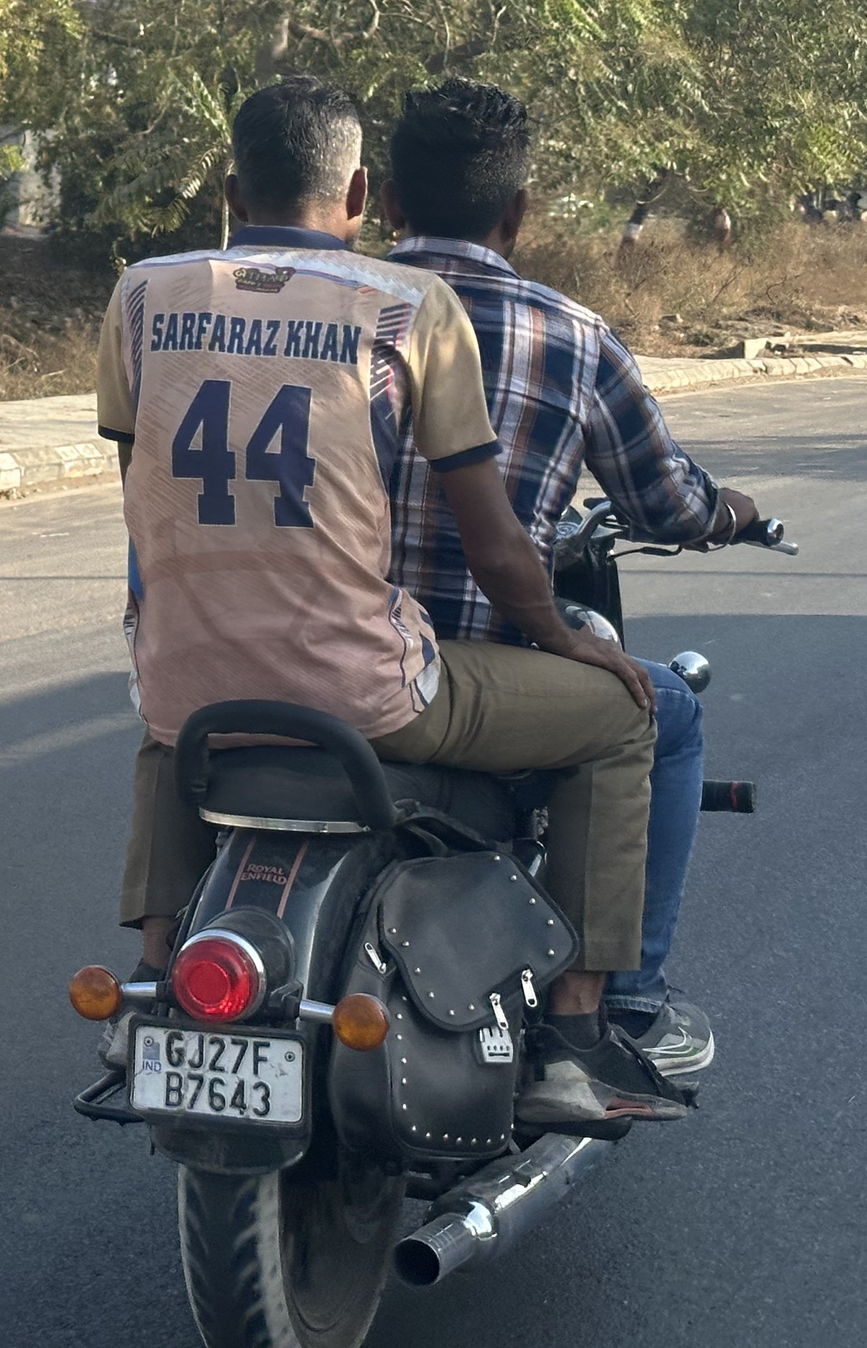BikeWithRider: (60, 73, 803, 1348)
NoHelmet: (379, 73, 542, 282), (211, 73, 385, 256)
